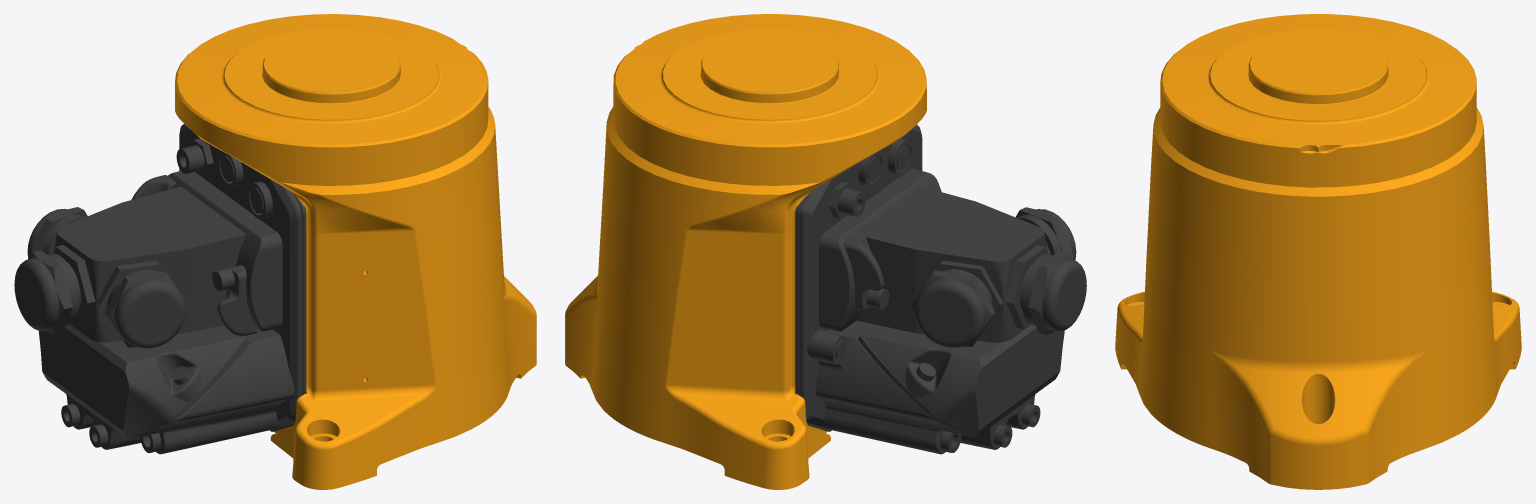
3 renders of one model, left to right at view 1: azimuth 30°, elevation 25°; view 2: azimuth 150°, elevation 25°; view 3: azimuth 270°, elevation 25°, orthographic.
Parts seen in each view (by area): view 1: PART_BASE_H_from_XG0000352A; view 2: PART_BASE_H_from_XG0000352A; view 3: PART_BASE_H_from_XG0000352A.
Boxes of the visible parts, x1,y1,x2,y2 form: PART_BASE_H_from_XG0000352A: (14,14,536,489); PART_BASE_H_from_XG0000352A: (565,14,1086,489); PART_BASE_H_from_XG0000352A: (1115,14,1521,489).
Bounding box in the file's own units: 0.3095 × 0.2183 × 0.196.
